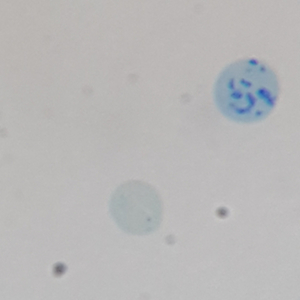aggregate reticulocyte: (210, 56, 281, 126)
punctate reticulocyte: (106, 178, 166, 238)
